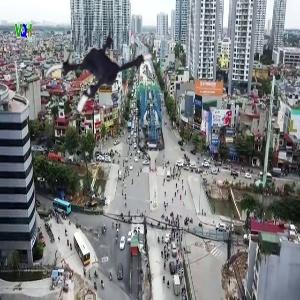drone: (43, 21, 158, 136)
